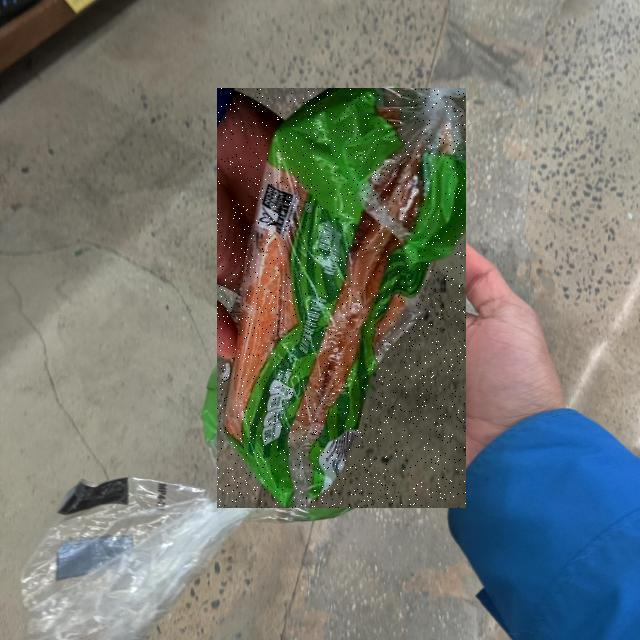Carrot: (217, 88, 466, 508)
